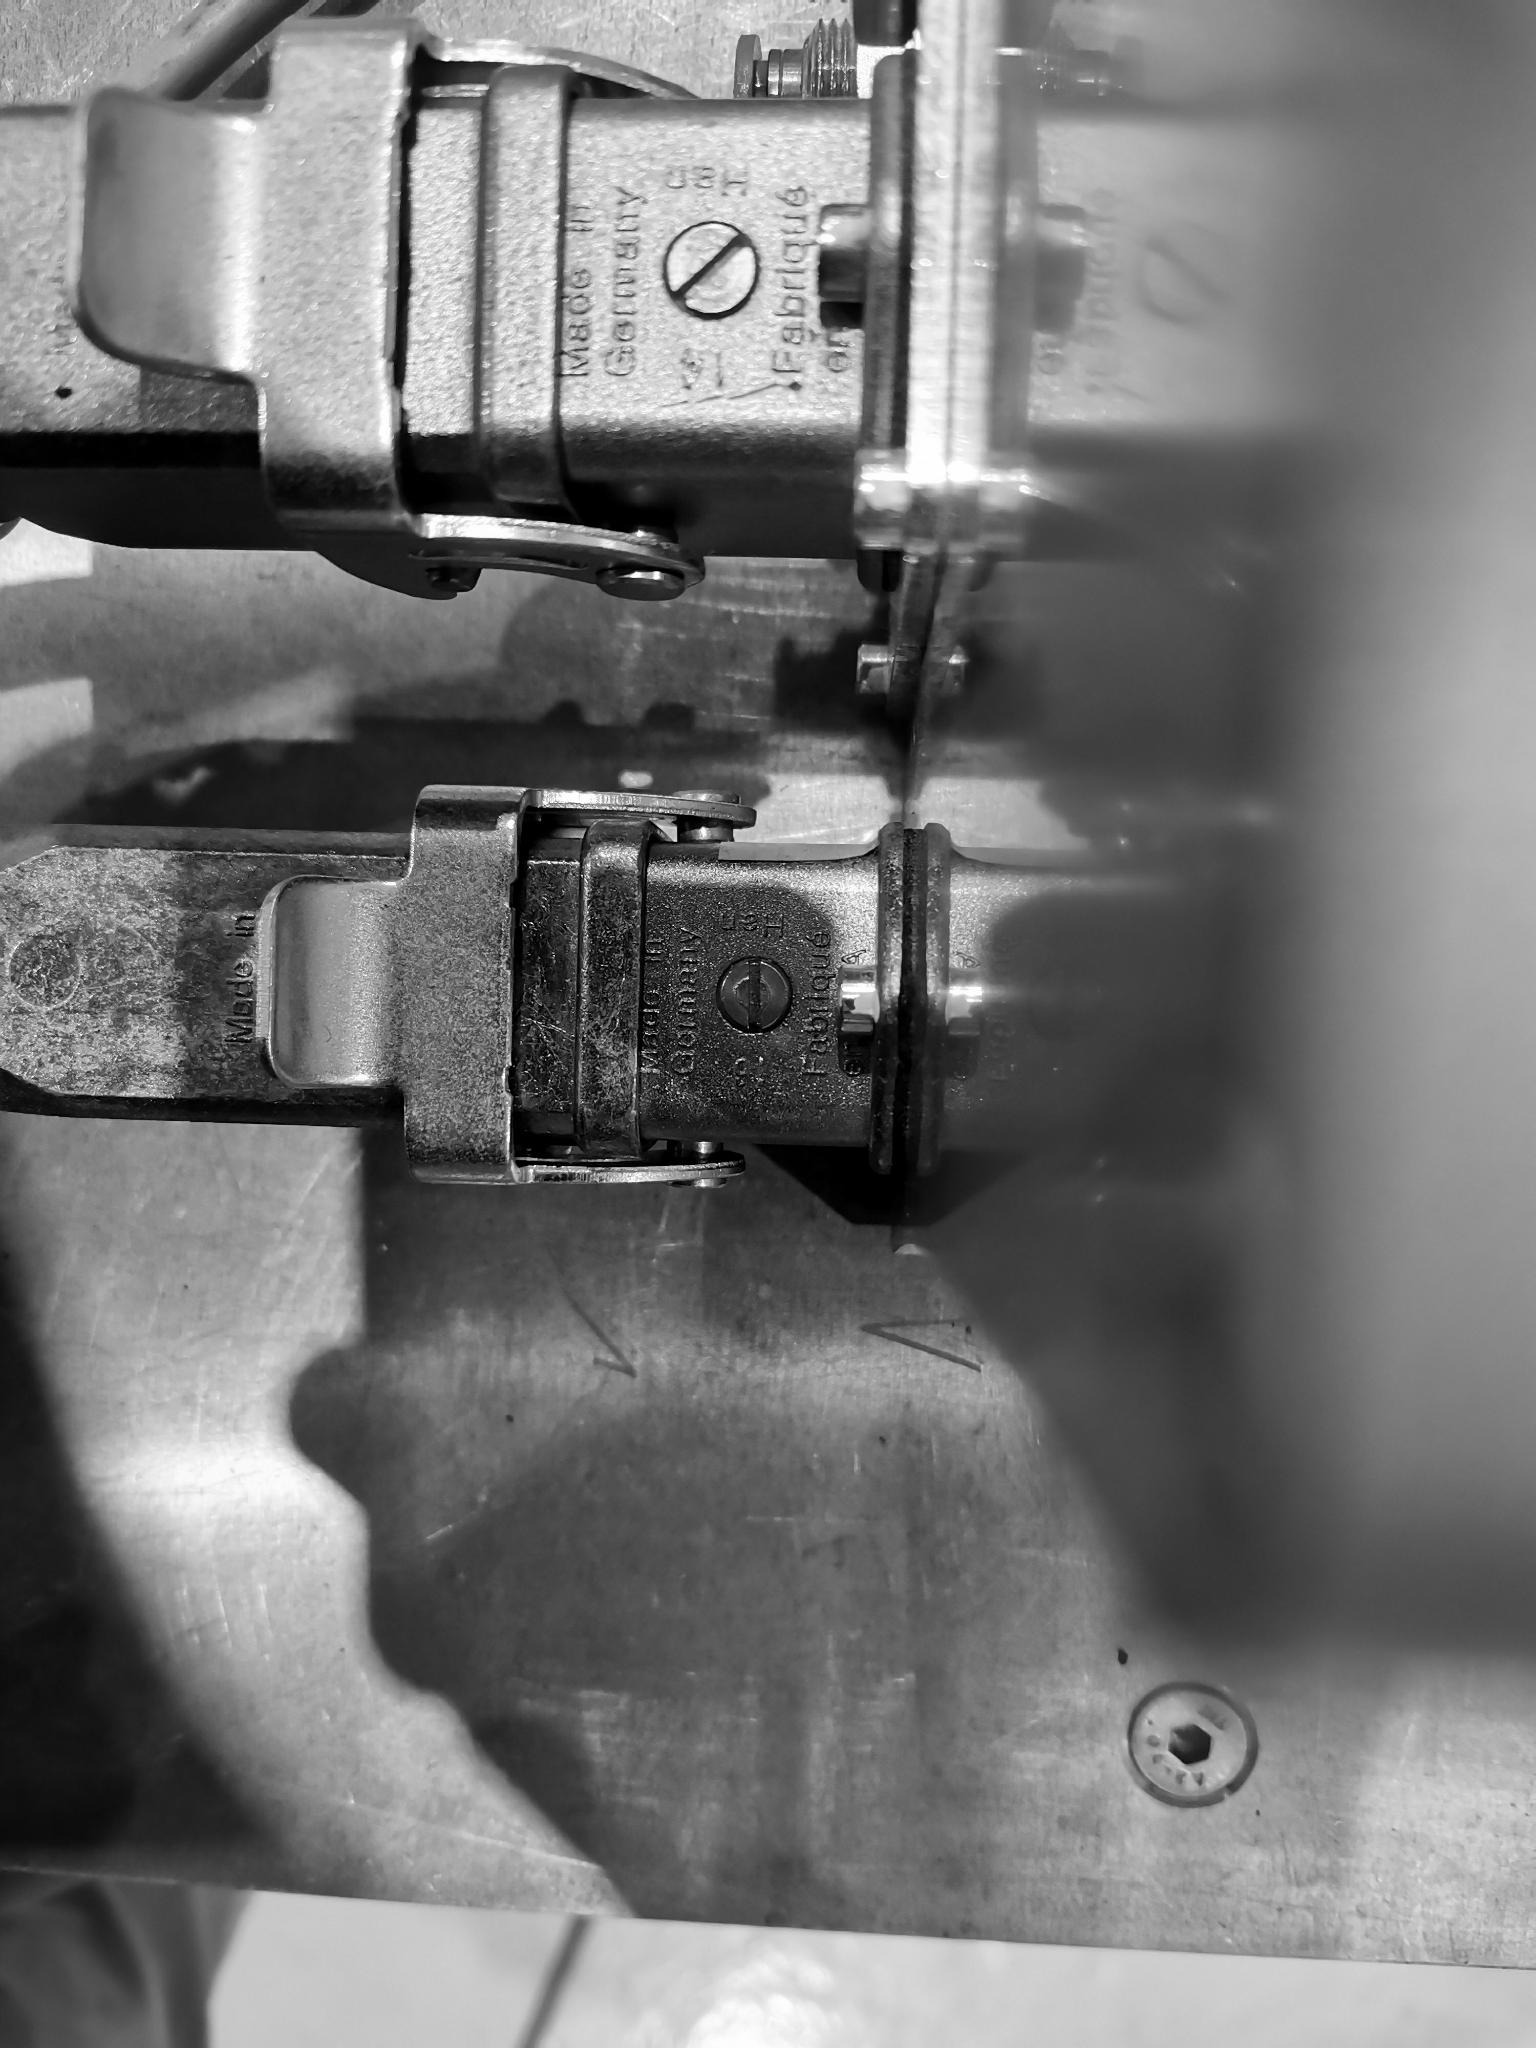screw: (1118, 1671, 1262, 1817), (652, 216, 762, 331), (715, 950, 794, 1027)
